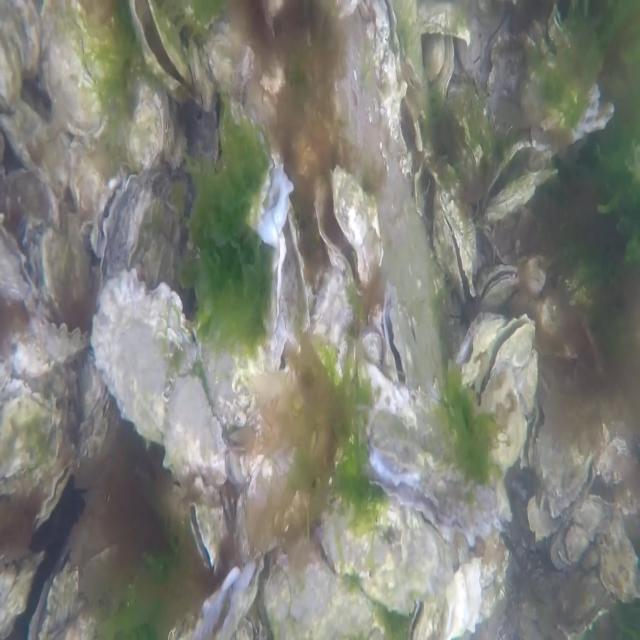Oyster-Closed: (42, 0, 128, 140), (482, 167, 558, 227), (33, 458, 75, 534), (38, 311, 92, 360), (394, 0, 424, 87), (359, 328, 382, 368)
Oyster-Indeterminate: (91, 268, 228, 480), (316, 492, 449, 617), (242, 364, 302, 540), (0, 377, 66, 496), (2, 99, 74, 193), (41, 222, 97, 315), (0, 0, 43, 113), (311, 266, 352, 384), (124, 86, 167, 174)
Oyster-Open: (362, 393, 499, 548), (206, 18, 292, 248), (310, 165, 383, 298), (29, 532, 109, 640), (529, 395, 597, 518), (370, 0, 423, 155), (470, 312, 536, 414), (127, 0, 193, 94), (196, 551, 264, 640), (429, 195, 478, 306), (274, 208, 308, 347), (91, 169, 138, 263), (448, 312, 506, 388), (376, 284, 412, 389), (0, 224, 40, 306), (188, 501, 226, 571), (476, 264, 519, 306)
